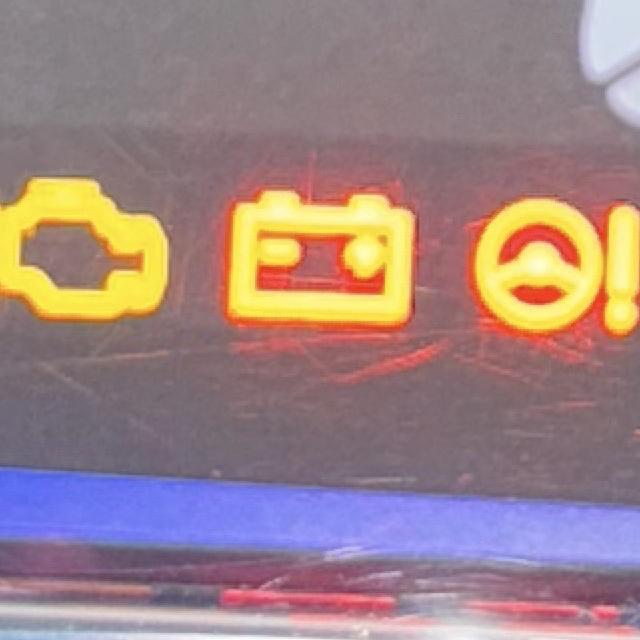Battery Issue: (223, 187, 421, 335)
Engine Issue: (2, 173, 174, 325)
Steering Wheel Locked: (470, 193, 640, 343)
